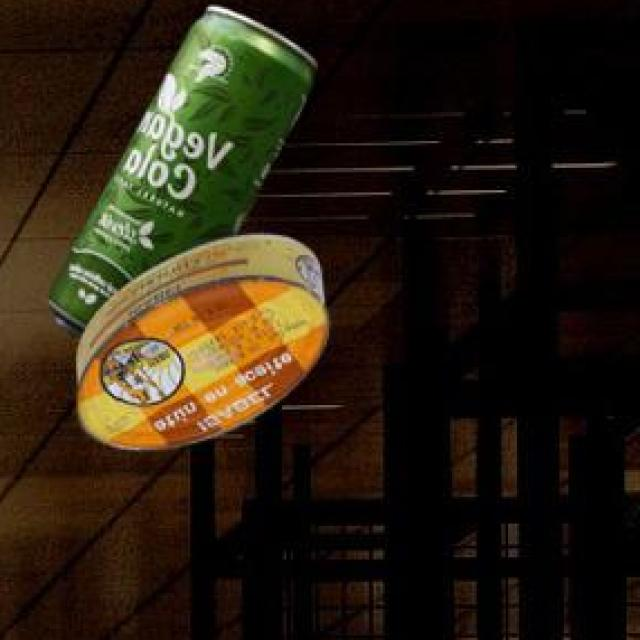logam: (46, 10, 314, 341), (73, 238, 326, 453)
